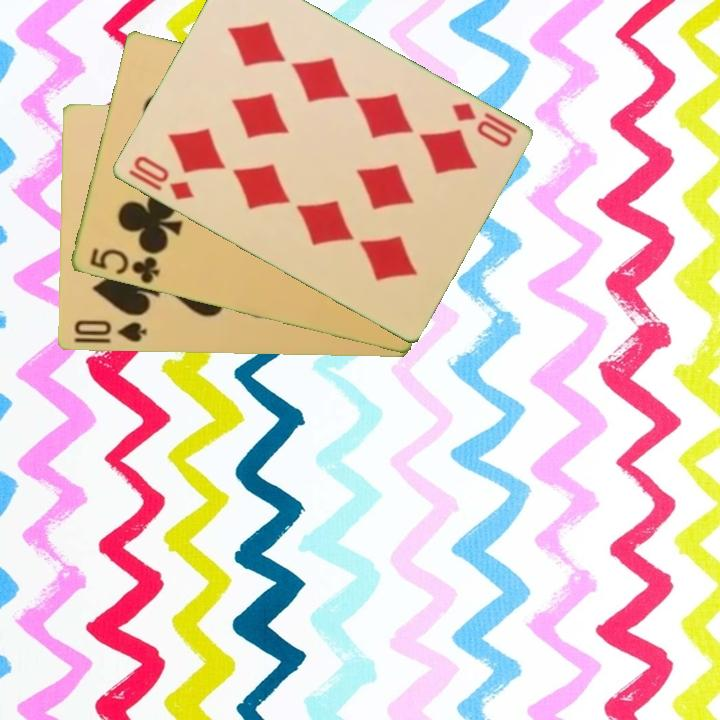10d: (447, 99, 520, 151), (129, 152, 196, 204)
10s: (70, 317, 149, 345)
5c: (86, 245, 162, 287)
